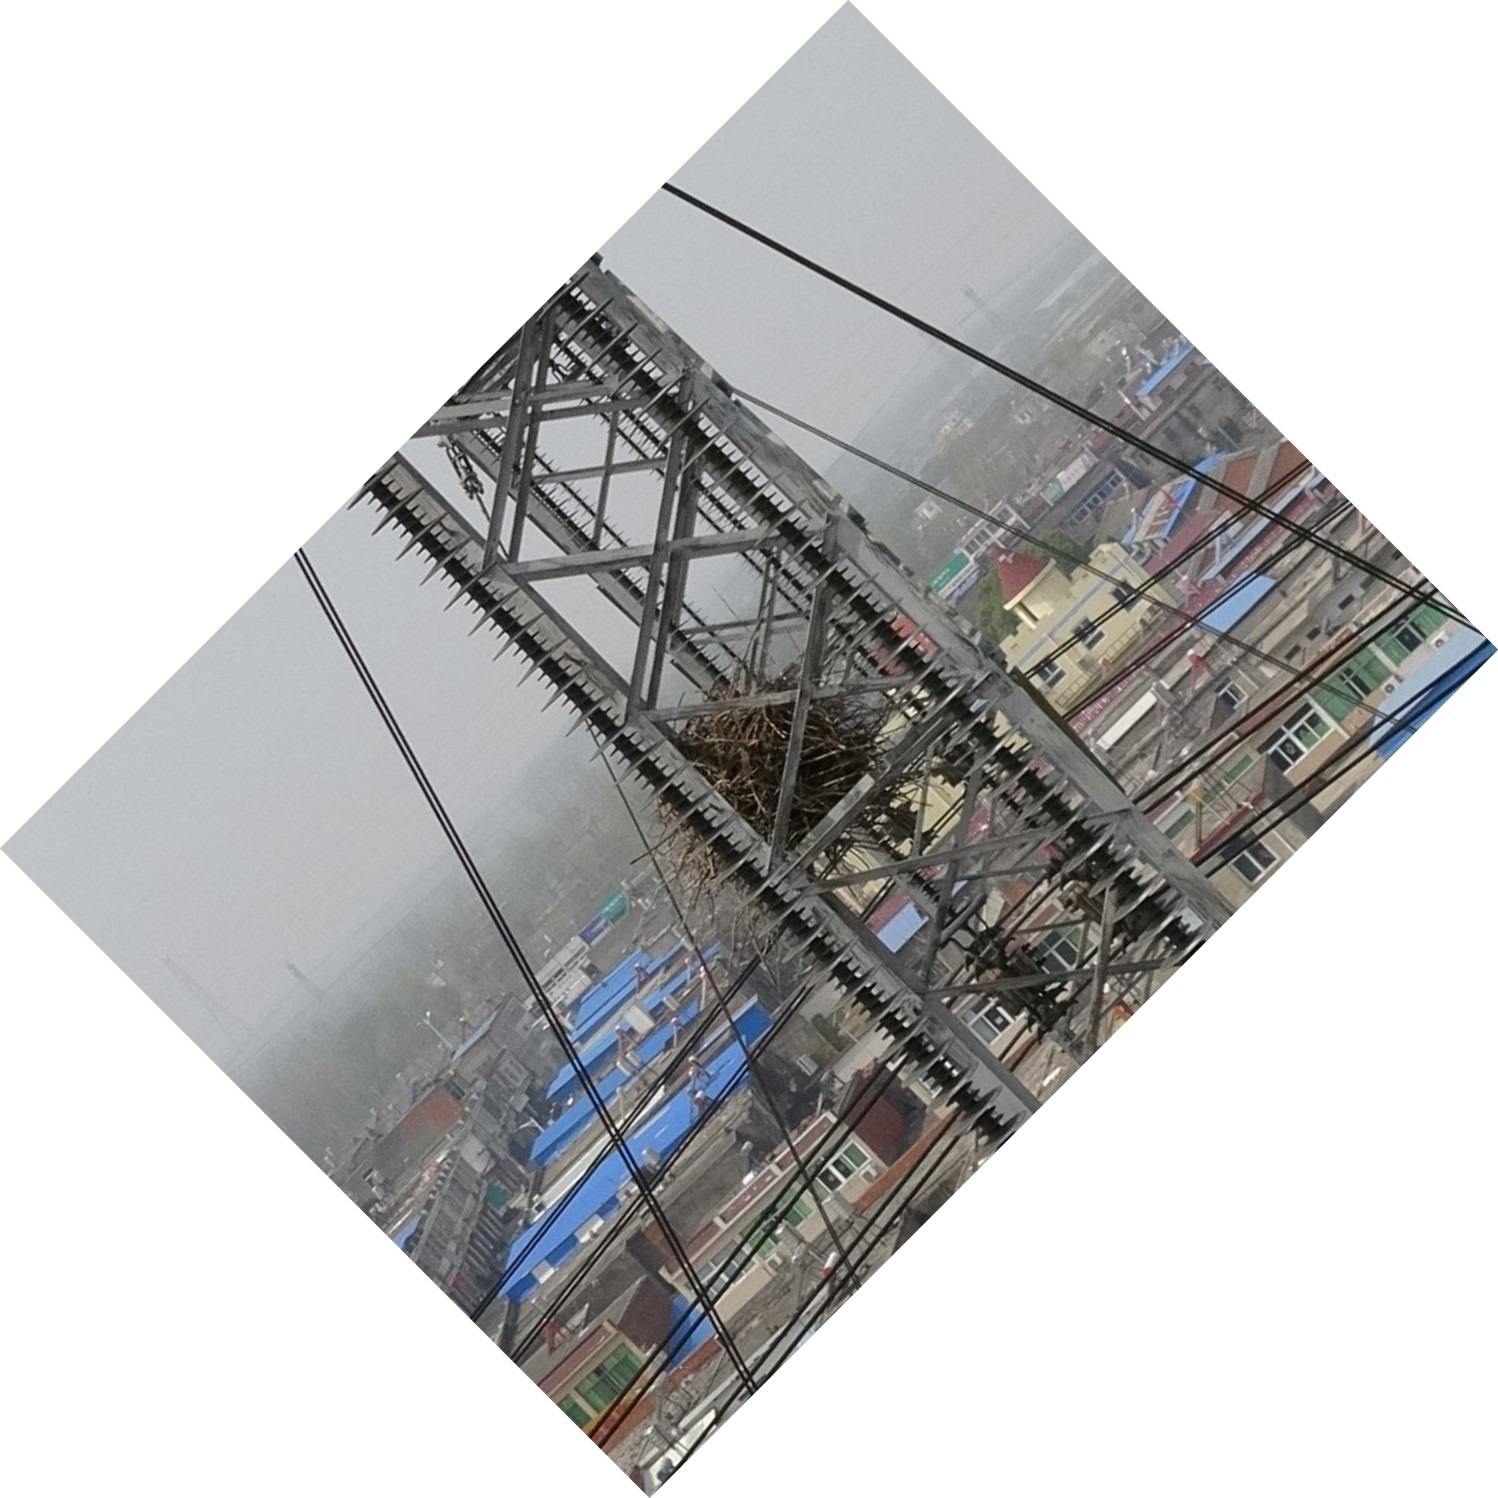niaowo: (630, 674, 892, 894)
